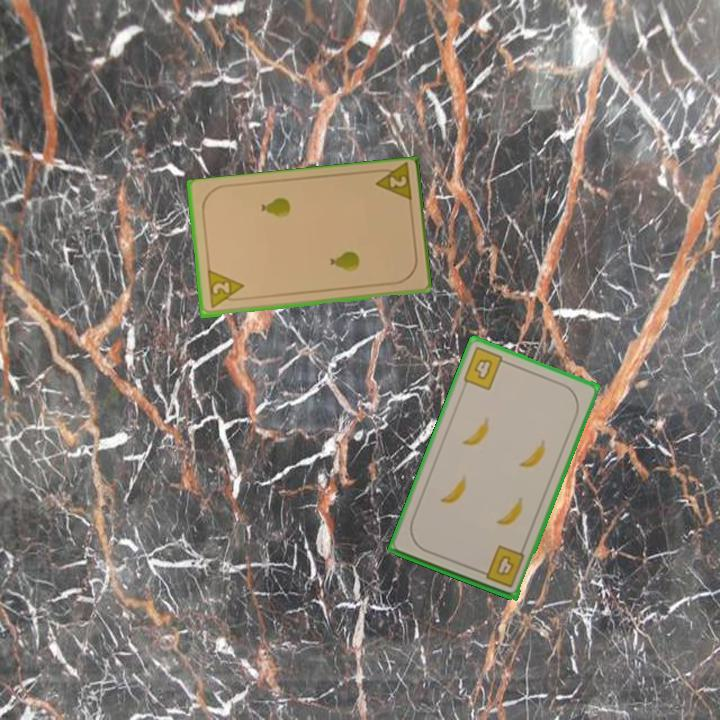2p: (369, 162, 414, 206), (204, 268, 247, 312)
4b: (459, 343, 512, 393), (475, 542, 527, 590)
